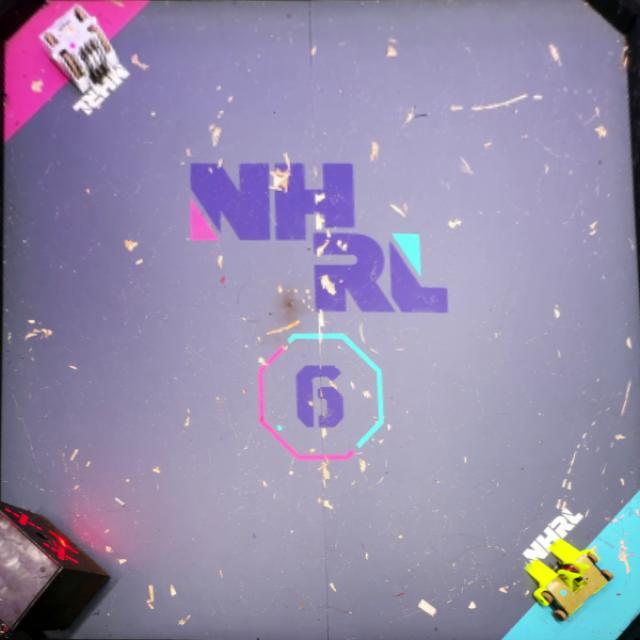housebot: (0, 500, 112, 640)
robot: (524, 538, 611, 616), (42, 4, 115, 92)
